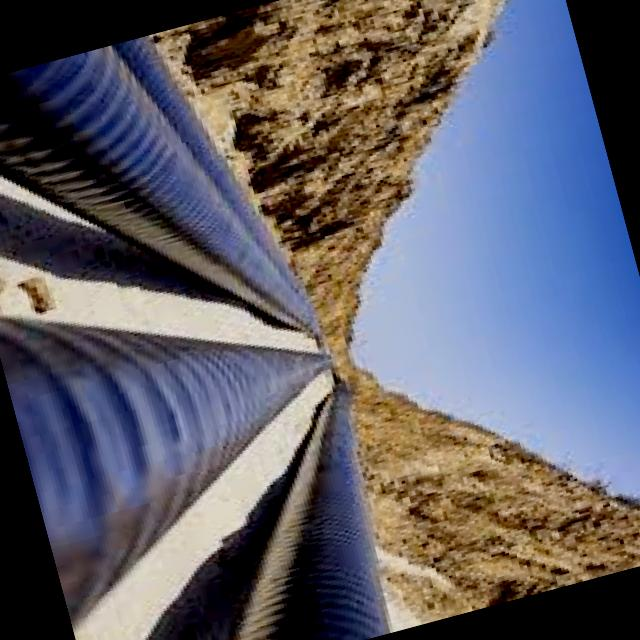gas: (0, 318, 328, 620), (0, 45, 314, 329), (236, 384, 387, 640)
